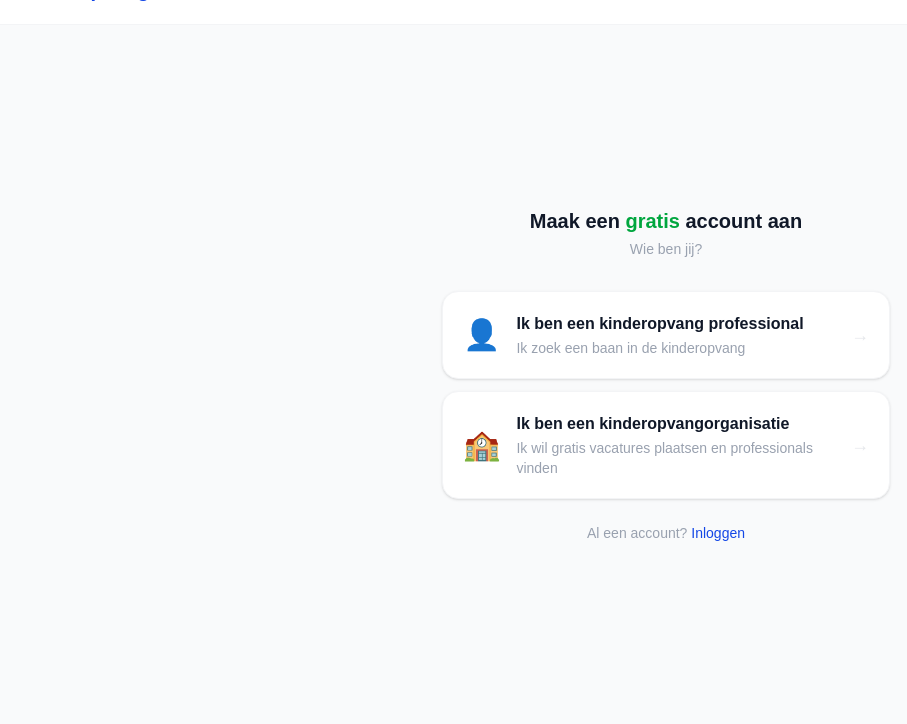
Test: RegisterPage — stap 2: gegevens formulier › shows gegevens form after role selection
Click the text "Ik ben een kinderopvang professional" at (660, 324), box 516,312 -> 804,336
(page scrolled)
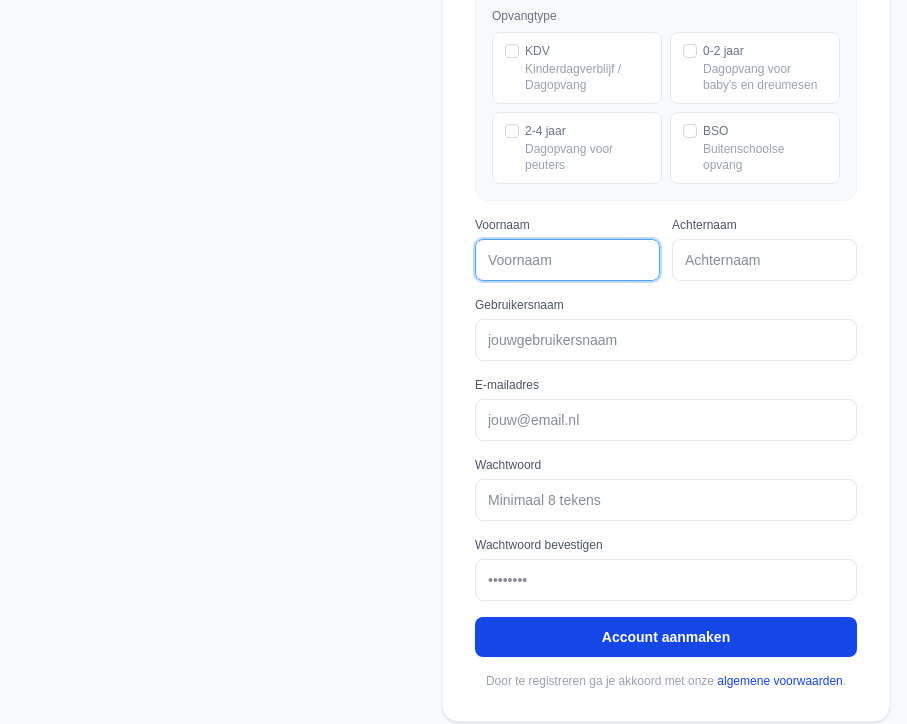
Check: the field with placeholder "jouwgebruikersnaam" is shown, box 475,319 -> 857,361
